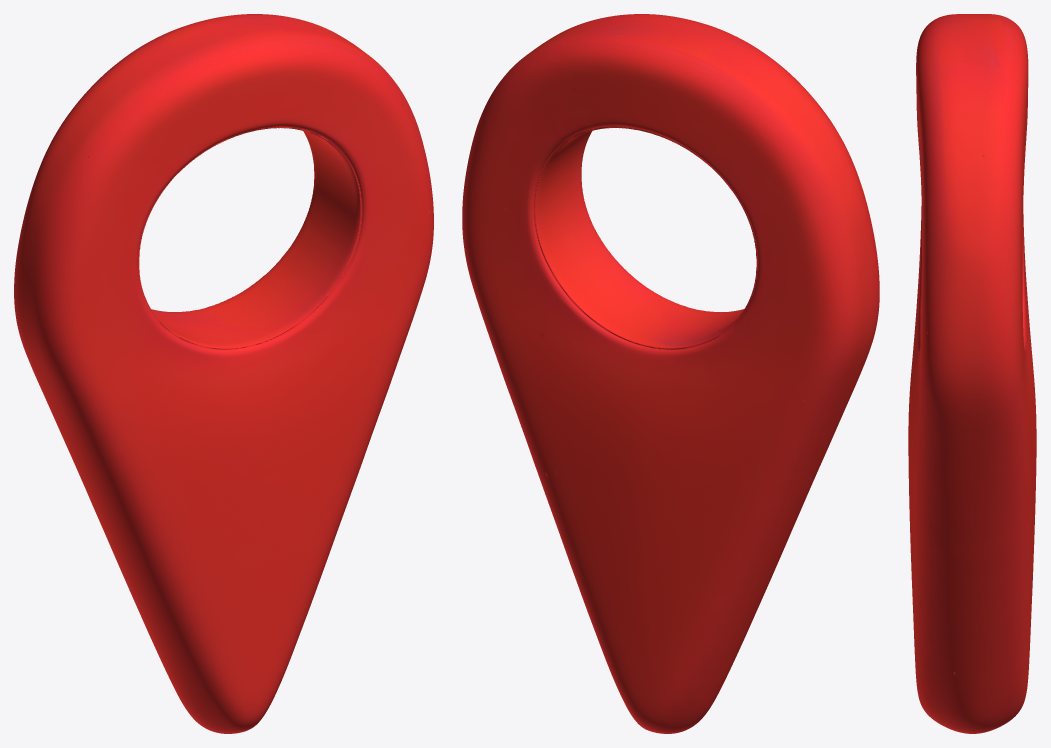
File: 11_location.glb
The picture shows the model from 3 angles, left to right: view 1: azimuth 30°, elevation 25°; view 2: azimuth 150°, elevation 25°; view 3: azimuth 270°, elevation 25°; orthographic projection.
Parts seen in each view (by area): view 1: texture_pbr_v128.001; view 2: texture_pbr_v128.001; view 3: texture_pbr_v128.001.
Boxes of the visible parts, x1,y1,x2,y2 form: texture_pbr_v128.001: [14, 14, 433, 733]; texture_pbr_v128.001: [462, 14, 879, 733]; texture_pbr_v128.001: [908, 14, 1036, 733].
Size of the model in its own units: 0.5839 by 0.9867 by 0.1658.
Materials: 1 (1 with a texture image).
